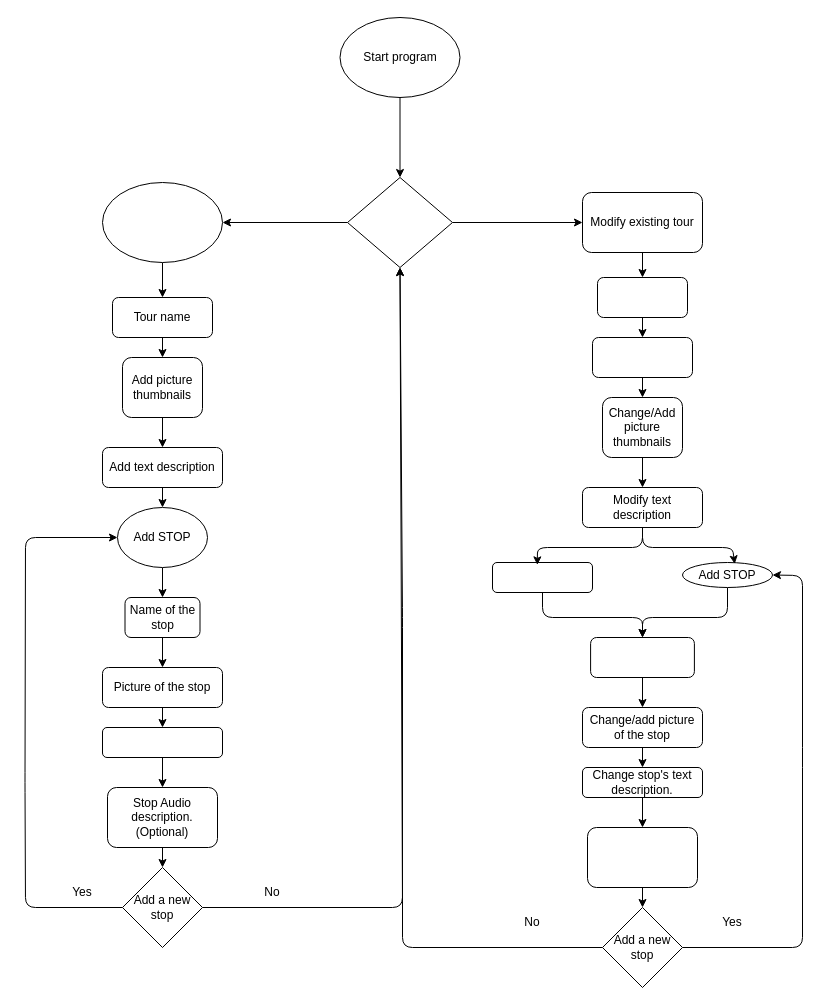
Some shapes in this 828 by 1005 pixel diagram are drawn without their labels. Here are the shapes that lost their labels. From the top down, the centre of each, then its label:
At [162,222]: "Create new tour".
At [399,222]: "Main Options".
At [642,297]: "Choose a tour.".
At [642,357]: "Change tour name".
At [542,577]: "Modify stop".
At [642,657]: "Change/add Name of the stop".
At [162,742]: "Stops text description.".
At [642,857]: "Change/add Stop's Audio description. (Optional)".
